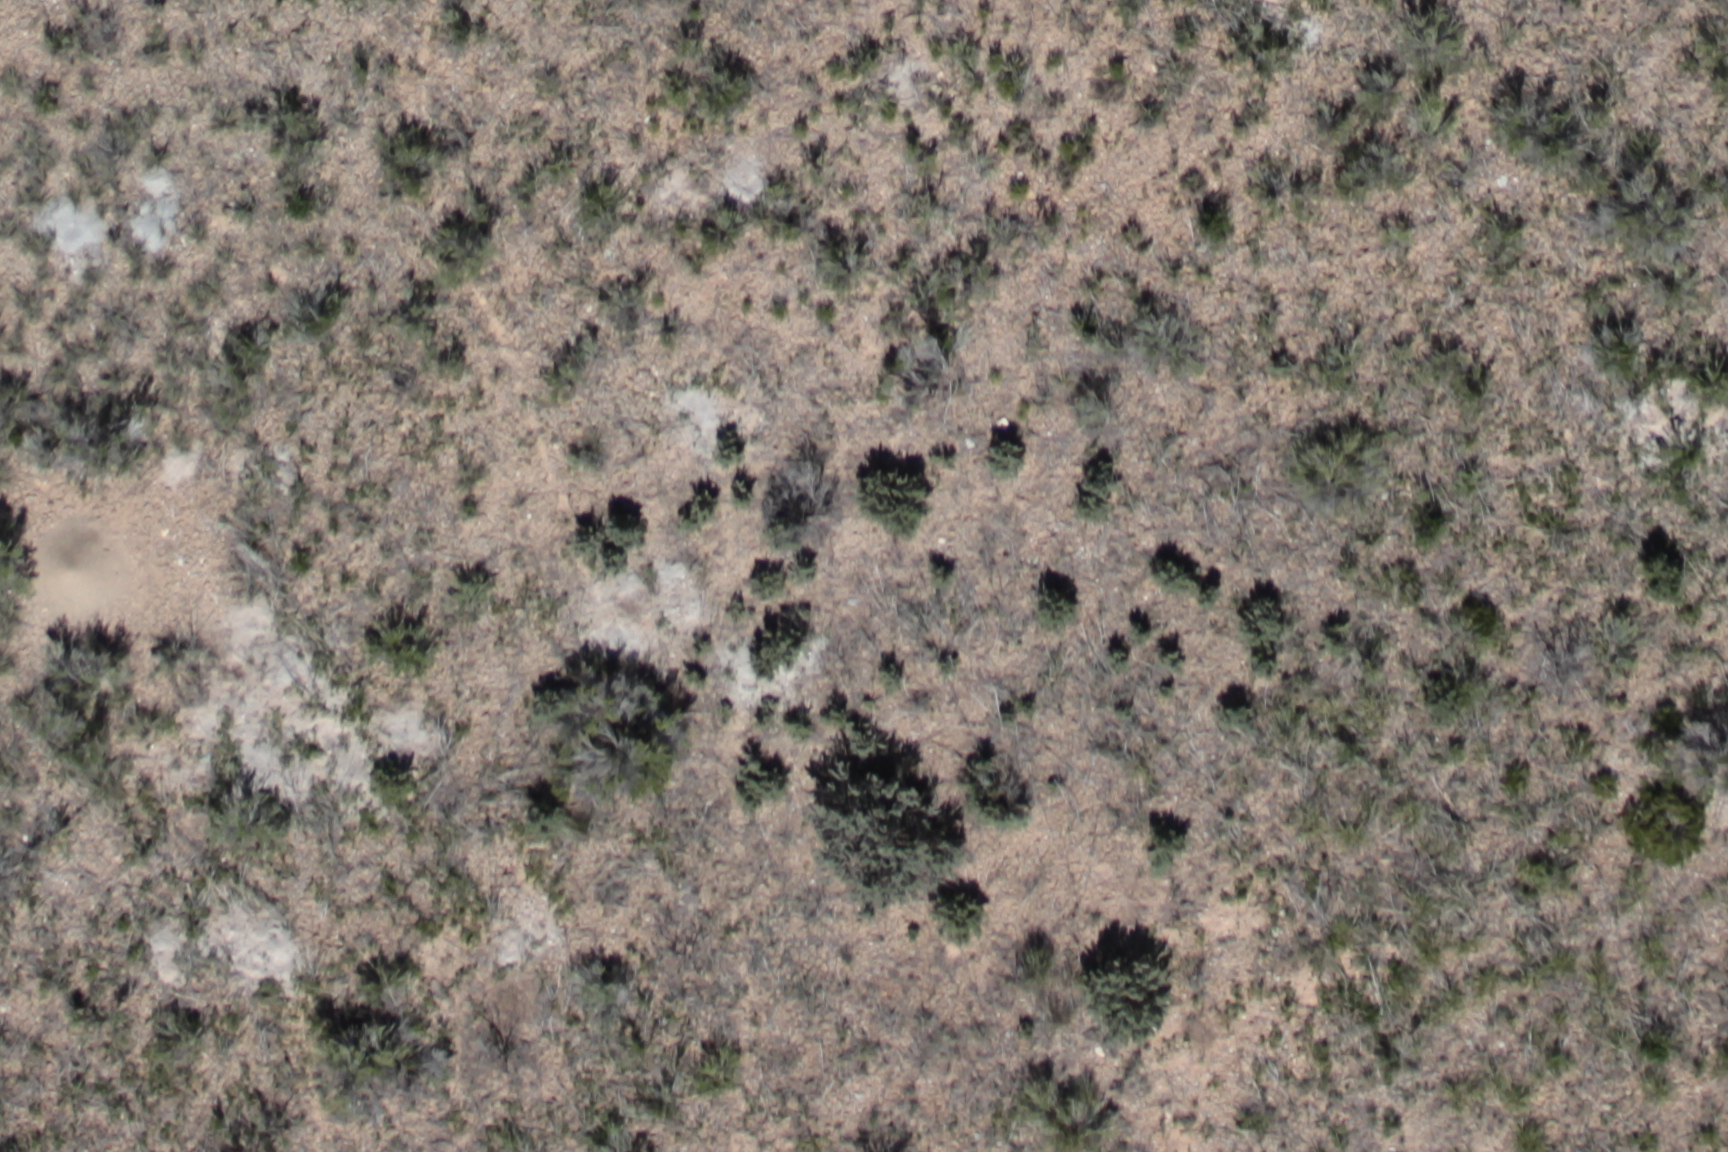burrow: (13, 501, 136, 621)
